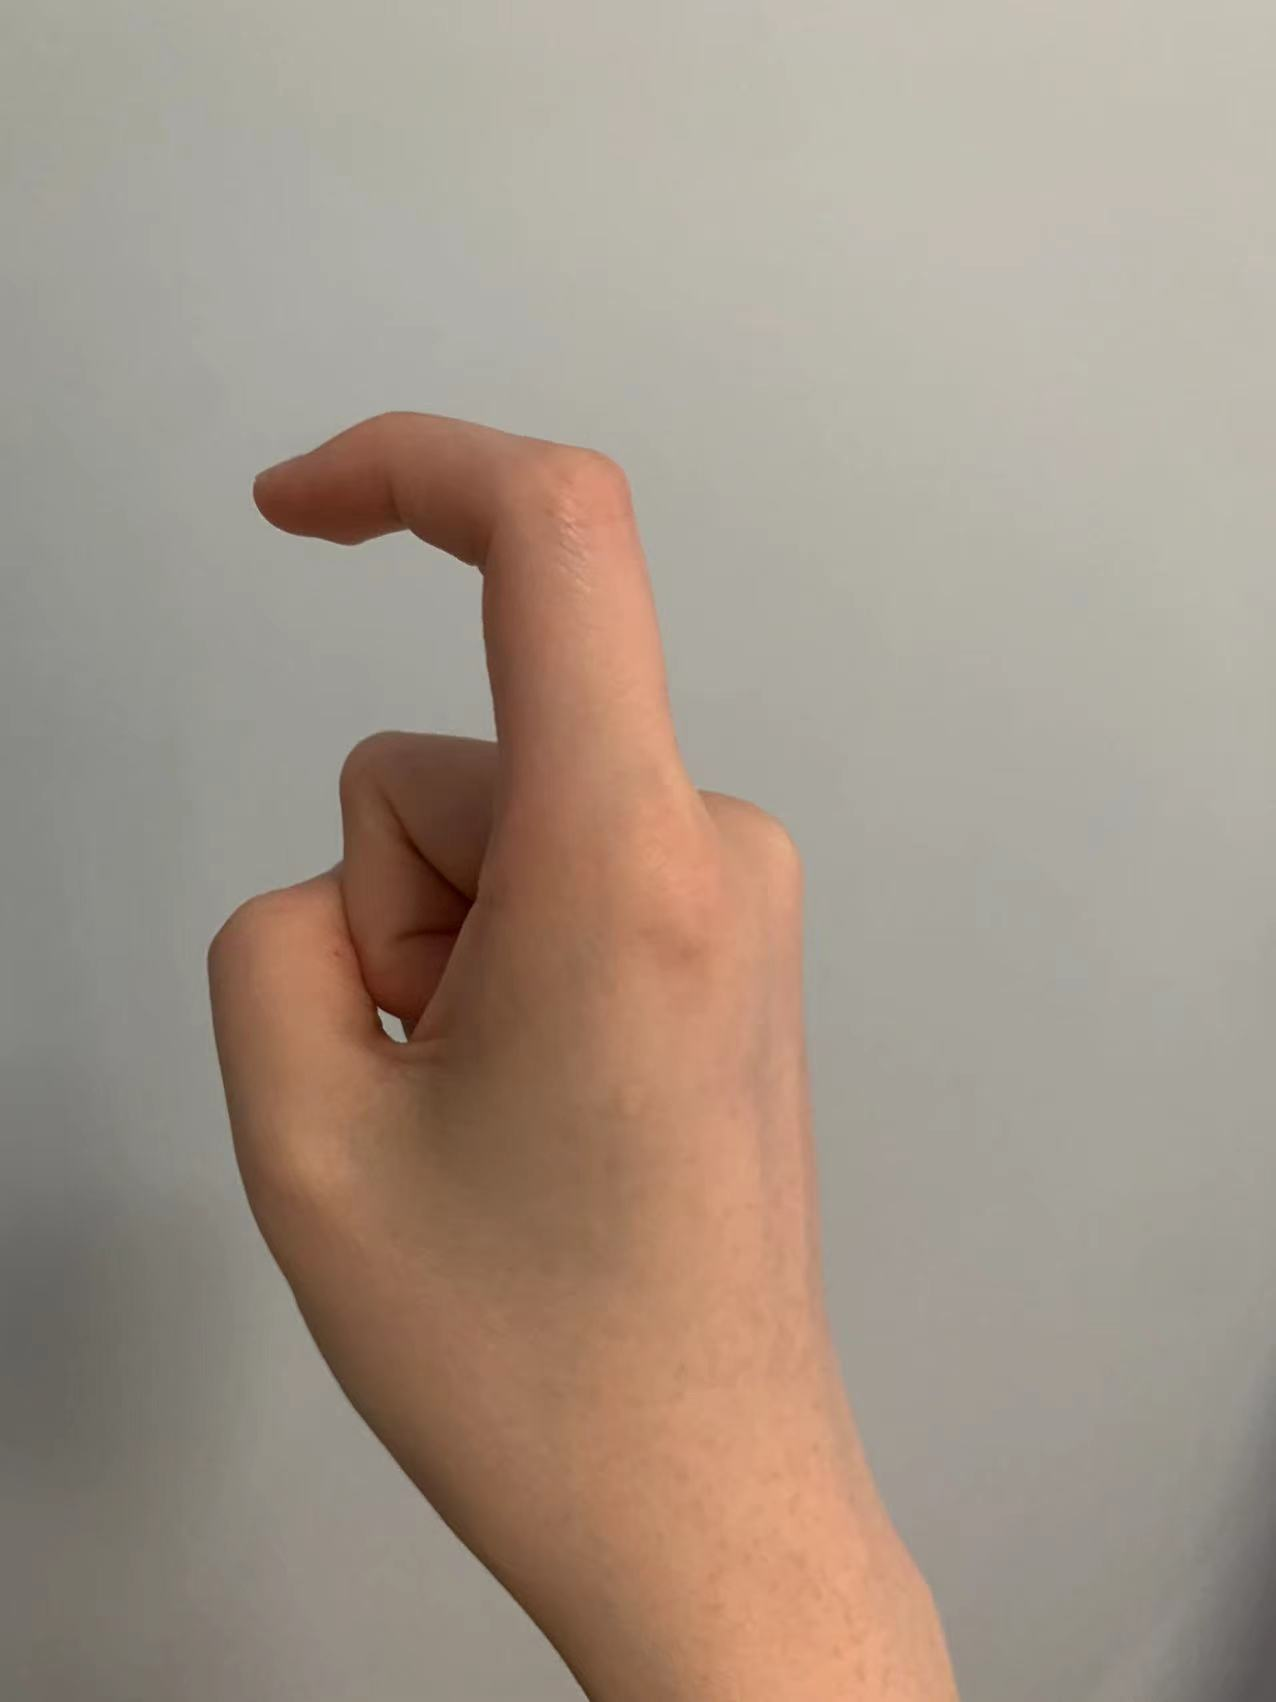anticlockwise: (184, 398, 834, 1540)
